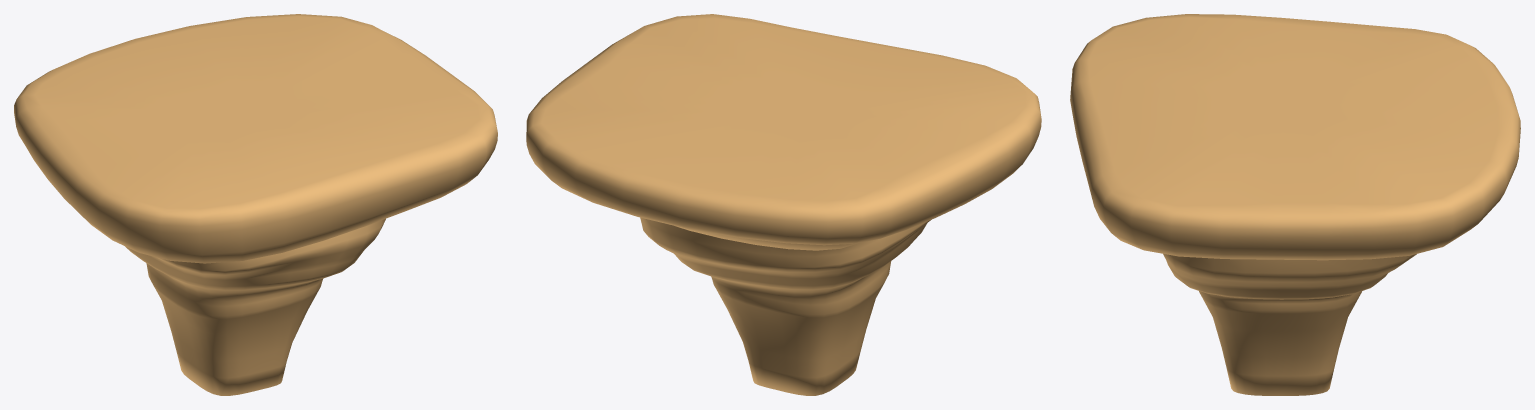
Rendered from RockyPlatePlatform.fbx.
The picture shows the model from 3 angles, left to right: view 1: azimuth 30°, elevation 25°; view 2: azimuth 150°, elevation 25°; view 3: azimuth 270°, elevation 25°; orthographic projection. The views are drawn at different scales.
Visible parts, largest first — view 1: RockyPlatePlatform, RockyPlateLeg; view 2: RockyPlatePlatform, RockyPlateLeg; view 3: RockyPlatePlatform, RockyPlateLeg.
Boxes of the visible parts, left/top/right/bottom form: RockyPlatePlatform: left=14, top=14, right=497, bottom=263; RockyPlateLeg: left=125, top=218, right=385, bottom=395; RockyPlatePlatform: left=526, top=14, right=1041, bottom=250; RockyPlateLeg: left=640, top=217, right=931, bottom=395; RockyPlatePlatform: left=1070, top=14, right=1520, bottom=260; RockyPlateLeg: left=1163, top=254, right=1416, bottom=395.
Bounding box in the file's own units: 5.36 × 3.3 × 4.91.
